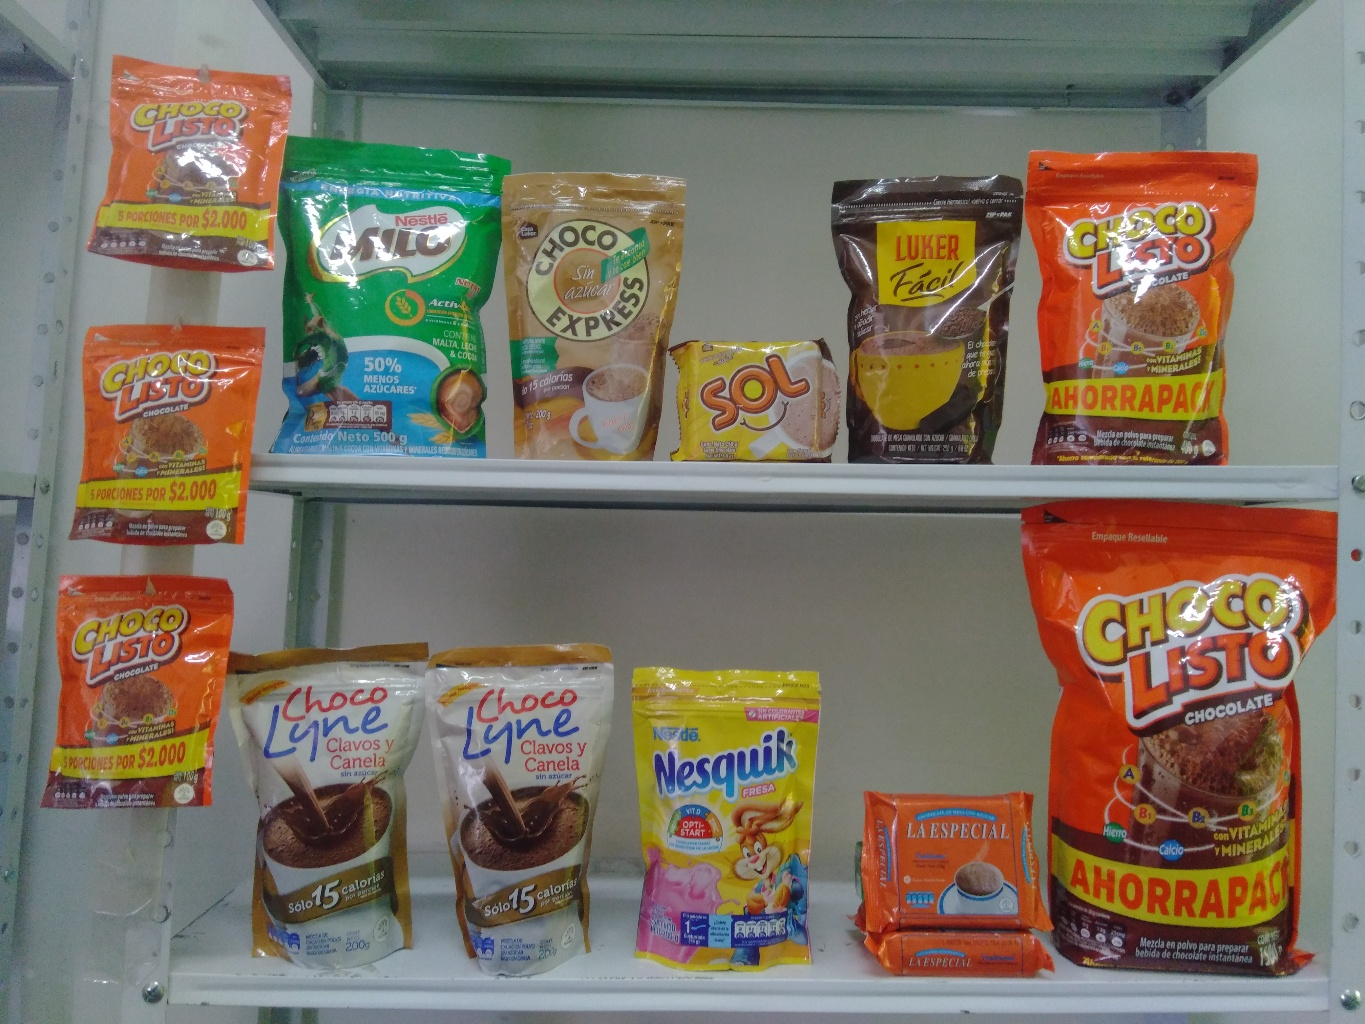COL0170103DYP1,500: (1016, 502, 1343, 973)
COL0170103DYP10000: (79, 44, 303, 283)
COL0170103DYP40000: (1015, 129, 1281, 478)
COL0170205DYP50000: (270, 132, 509, 457)
COL0170305DYP20000: (636, 658, 843, 973)
